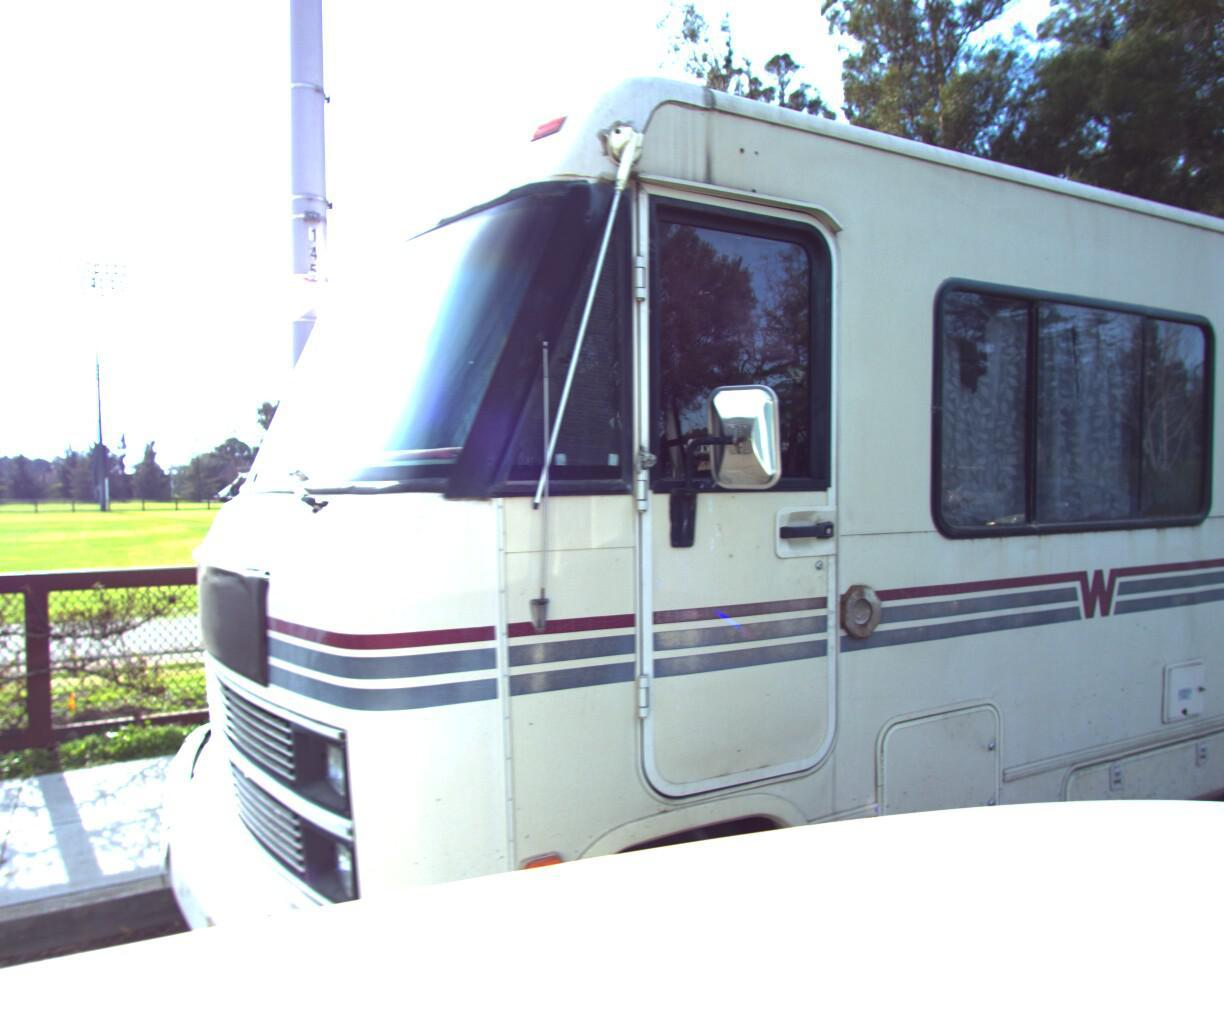other_vehicle: (113, 0, 1224, 1024)
